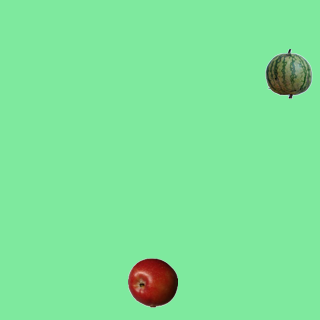Apple Braeburn: (127, 257, 177, 307)
Watermelon: (263, 48, 313, 98)
